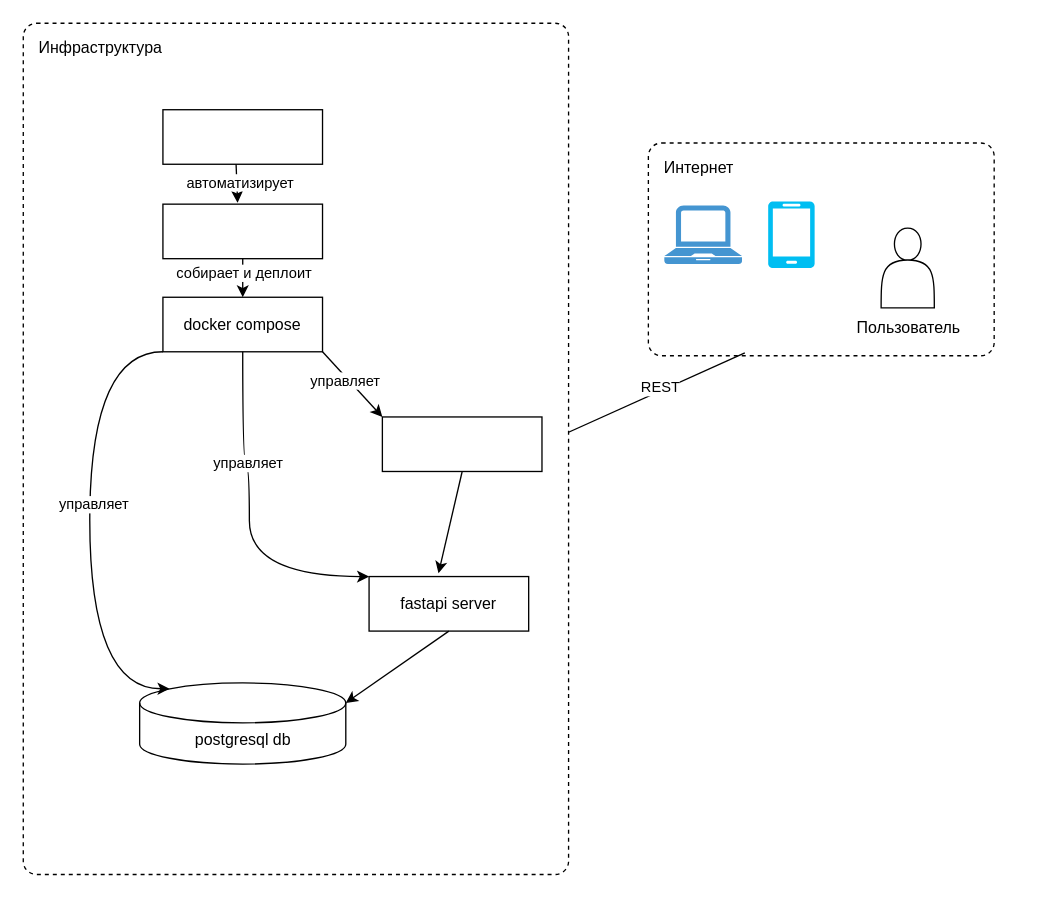
Some shapes in this 1045 by 898 pixel diagram are drawn without their labels. The shapes that lost their labels are listed below. From the top down, each one's centre as x and y in pixels, then its label:
point 242,136: makefile
point 242,231: github ci/cd
point 461,443: api gateway
